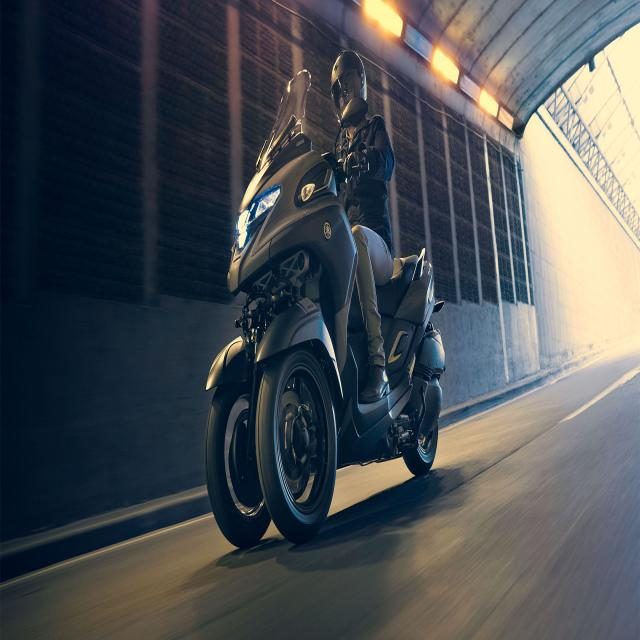Bike: (203, 69, 446, 553)
